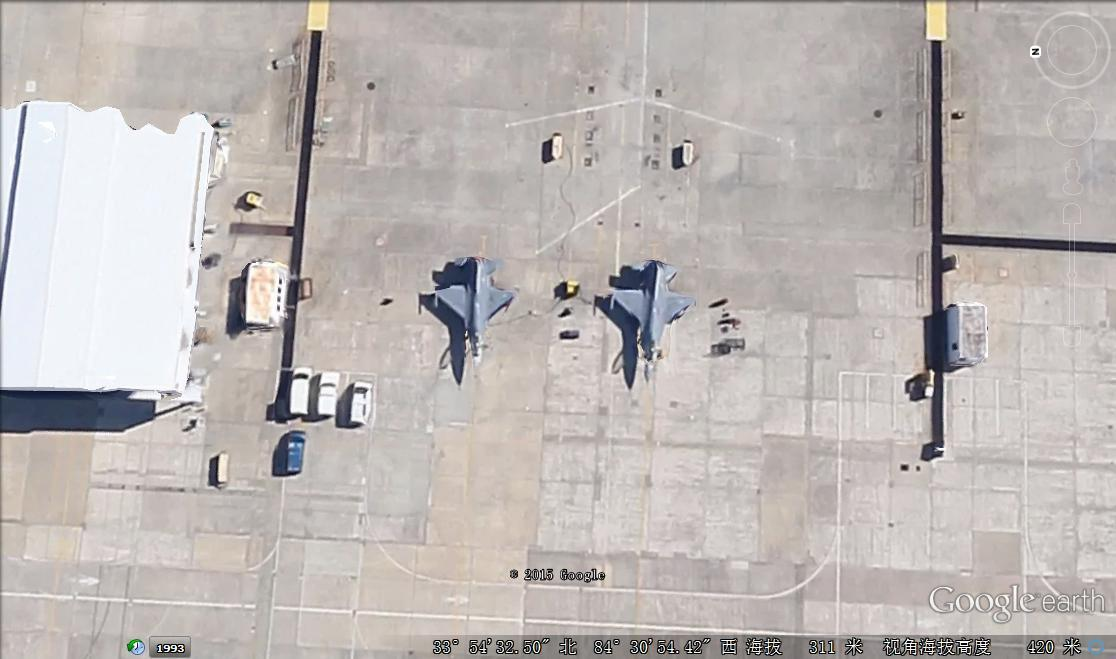F-16: (603, 261, 702, 387), (434, 249, 516, 371)
